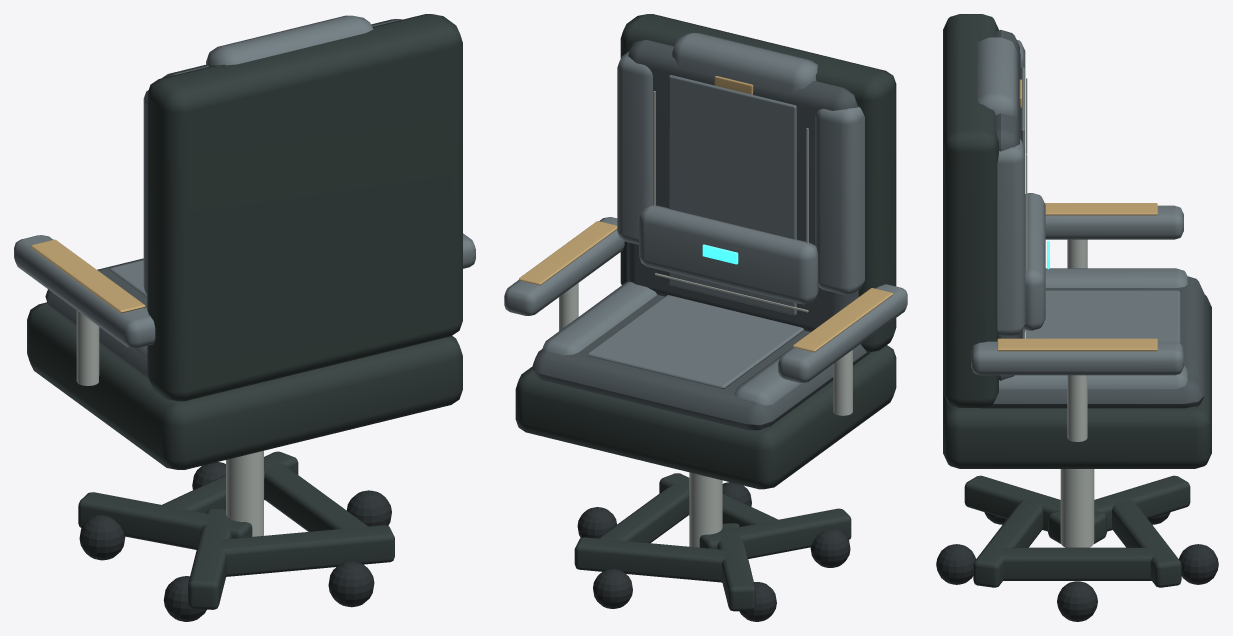
Rendered from chair.glb.
3 views of the same model, side by side, from view 1: azimuth 30°, elevation 25°; view 2: azimuth 150°, elevation 25°; view 3: azimuth 270°, elevation 25° (orthographic). The views are drawn at different scales.
Visible parts, largest first — view 1: chair_Recesses_and_rubber, chair_Slate_fabric_panels, chair_Soft_black_rubber, chair_Brushed_silver, chair_Brushed_warm_metal, chair_Deep_graphite_fabric; view 2: chair_Slate_fabric_panels, chair_Recesses_and_rubber, chair_Deep_graphite_fabric, chair_Soft_black_rubber, chair_Brushed_warm_metal, chair_Brushed_silver, chair_Fabric_seam; view 3: chair_Recesses_and_rubber, chair_Slate_fabric_panels, chair_Deep_graphite_fabric, chair_Brushed_silver, chair_Soft_black_rubber, chair_Brushed_warm_metal, chair_Fabric_seam.
Part boxes in pixels (x1=…): chair_Recesses_and_rubber: x1=27, y1=14, x2=462, y2=609; chair_Slate_fabric_panels: x1=14, y1=15, x2=475, y2=356; chair_Soft_black_rubber: x1=79, y1=462, x2=391, y2=621; chair_Brushed_silver: x1=76, y1=310, x2=263, y2=536; chair_Brushed_warm_metal: x1=30, y1=239, x2=145, y2=313; chair_Deep_graphite_fabric: x1=45, y1=19, x2=402, y2=382; chair_Slate_fabric_panels: x1=504, y1=33, x2=907, y2=405; chair_Recesses_and_rubber: x1=515, y1=14, x2=896, y2=611; chair_Deep_graphite_fabric: x1=531, y1=40, x2=870, y2=430; chair_Soft_black_rubber: x1=577, y1=482, x2=850, y2=621; chair_Brushed_warm_metal: x1=519, y1=76, x2=892, y2=352; chair_Brushed_silver: x1=559, y1=283, x2=852, y2=547; chair_Fabric_seam: x1=653, y1=91, x2=808, y2=312; chair_Recesses_and_rubber: x1=943, y1=14, x2=1211, y2=587; chair_Slate_fabric_panels: x1=971, y1=37, x2=1187, y2=389; chair_Deep_graphite_fabric: x1=980, y1=30, x2=1204, y2=408; chair_Brushed_silver: x1=1060, y1=239, x2=1094, y2=547; chair_Soft_black_rubber: x1=936, y1=512, x2=1218, y2=621; chair_Brushed_warm_metal: x1=997, y1=79, x2=1157, y2=351; chair_Fabric_seam: x1=1024, y1=78, x2=1027, y2=338.
Bounding box in the file's own units: 0.96 × 1.48 × 0.7567.
